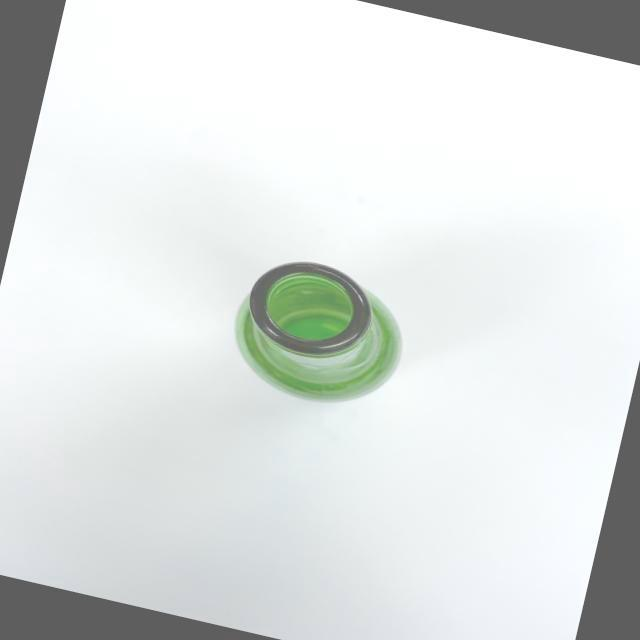glass: (191, 201, 444, 457)
